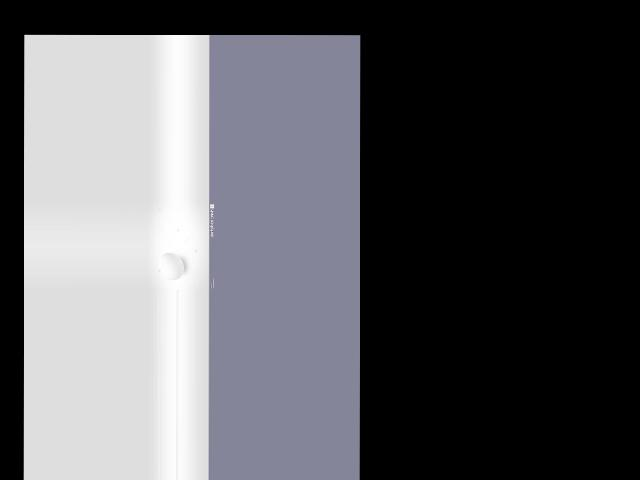egg: (159, 253, 184, 280)
